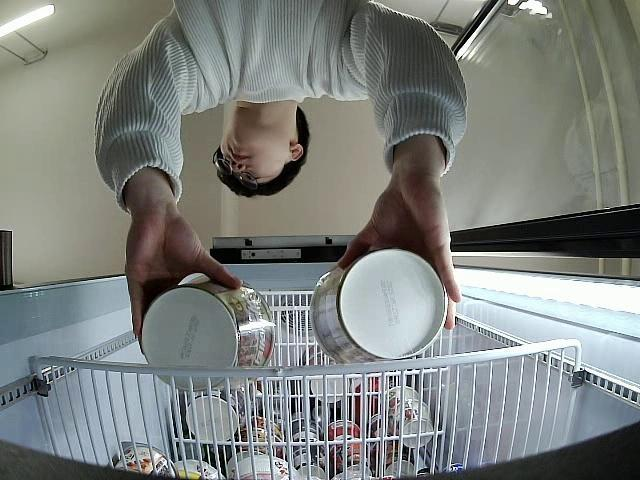03_chapagetti_L: (138, 276, 276, 392), (310, 247, 448, 362)
